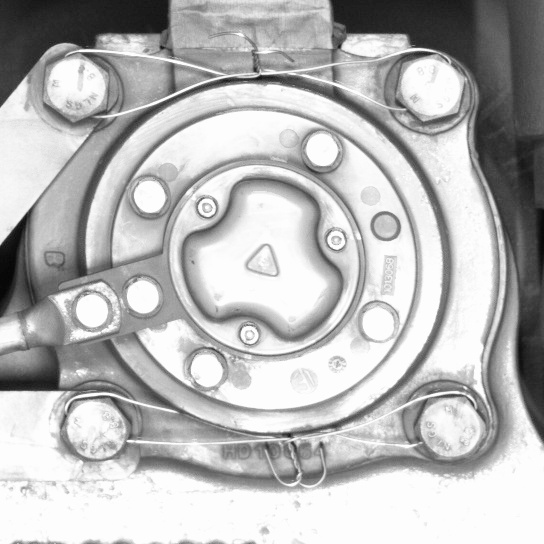IronWire: (35, 42, 476, 131), (48, 385, 495, 470)
Screw: (48, 382, 139, 472), (382, 44, 474, 132), (404, 384, 494, 470), (34, 46, 120, 130)
